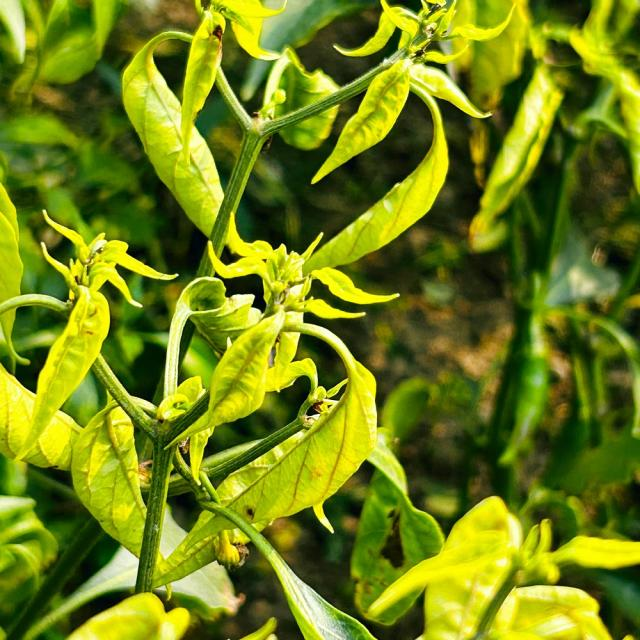Chilli_Leaf_Curl: (2, 0, 636, 638), (267, 0, 513, 273), (152, 317, 379, 591), (1, 208, 178, 468), (366, 494, 638, 638), (119, 17, 244, 255)
